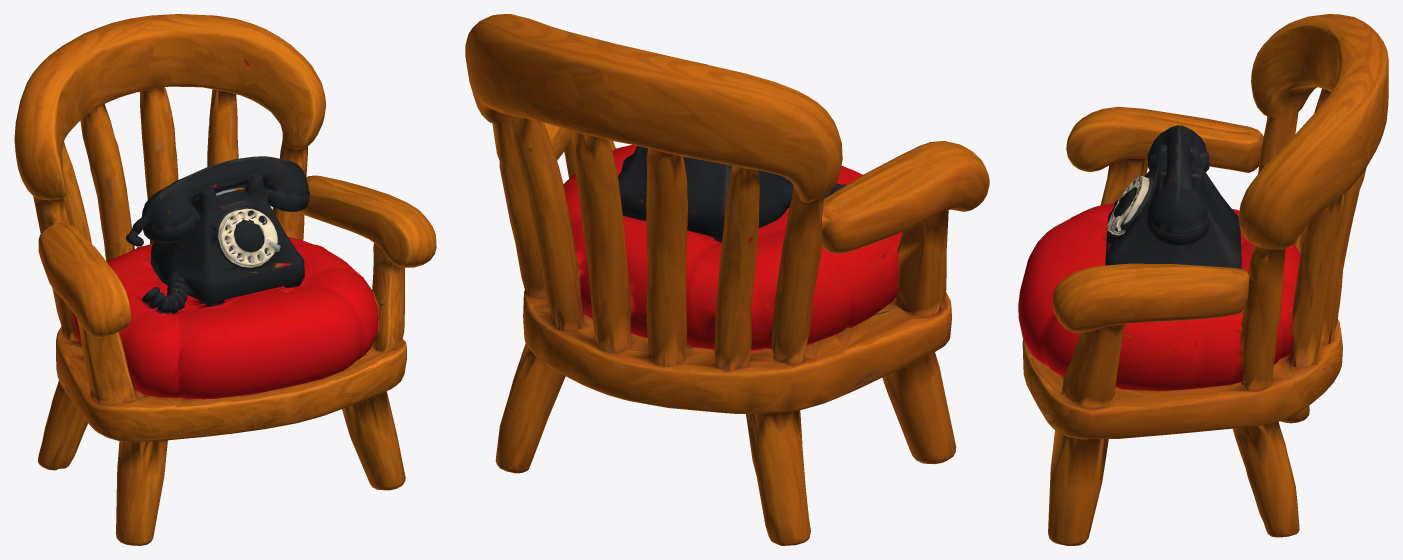
The model's file is chair.glb.
The picture shows the model from 3 angles, left to right: view 1: azimuth 30°, elevation 25°; view 2: azimuth 150°, elevation 25°; view 3: azimuth 270°, elevation 25°; orthographic projection. The views are drawn at different scales.
Parts seen in each view (by area): view 1: Mesh_0; view 2: Mesh_0; view 3: Mesh_0.
Part boxes in pixels (x1,y1,x2,y2): Mesh_0: (14,14,436,545); Mesh_0: (465,14,989,545); Mesh_0: (1018,14,1388,545).
Size of the model in its own units: 0.9265 by 1 by 0.7906.
Materials: 1 (1 with a texture image).
